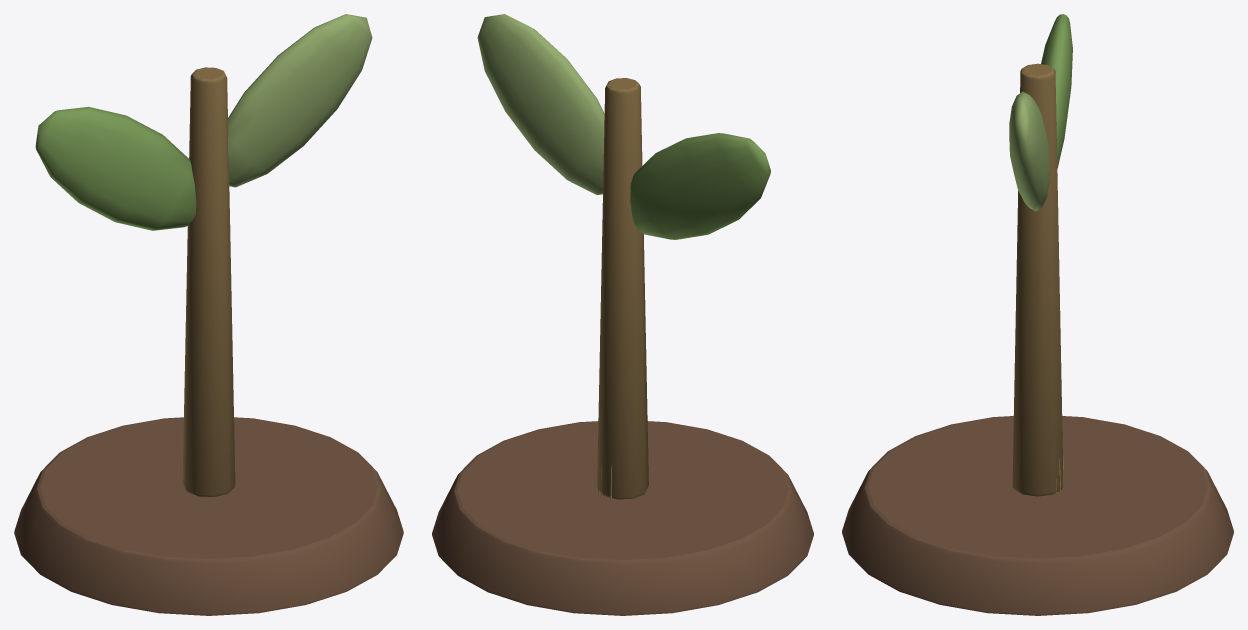
Rendered from tree_stage0.glb.
3 views of the same model, side by side, from view 1: azimuth 30°, elevation 25°; view 2: azimuth 150°, elevation 25°; view 3: azimuth 270°, elevation 25° (orthographic). The views are drawn at different scales.
Bounding box in the file's own units: 0.2777 × 0.3895 × 0.2777.
